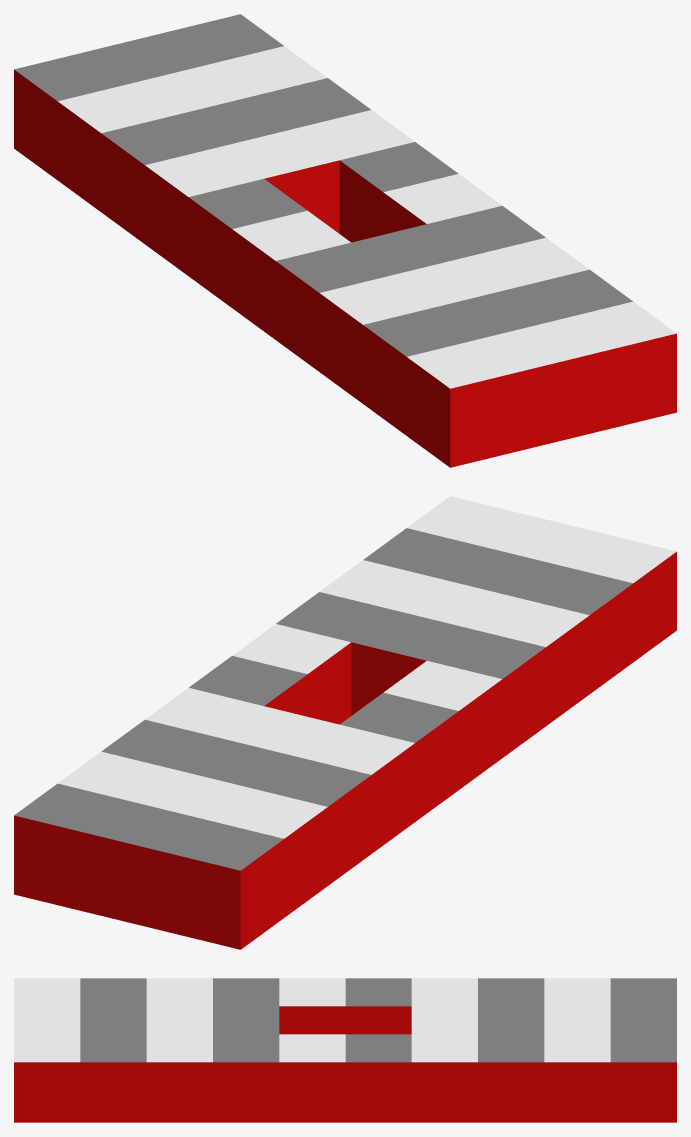
File: Track_Hole_M.fbx
The picture shows the model from 3 angles, top to bottom: view 1: azimuth 30°, elevation 25°; view 2: azimuth 150°, elevation 25°; view 3: azimuth 270°, elevation 25°; orthographic projection. The views are drawn at different scales.
Parts seen in each view (by area): view 1: Track_Hole_M; view 2: Track_Hole_M; view 3: Track_Hole_M.
Boxes of the visible parts, <box> form: Track_Hole_M: <box>14,14,676,467</box>; Track_Hole_M: <box>14,496,676,949</box>; Track_Hole_M: <box>14,978,676,1122</box>.
Bounding box in the file's own units: 900 × 300 × 3000.
